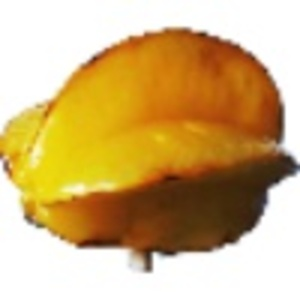carambola: (1, 26, 300, 273)
